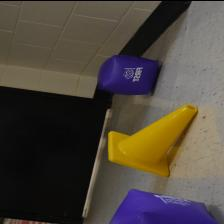cone: (107, 104, 199, 176)
cube: (108, 187, 220, 224), (97, 53, 160, 95)
